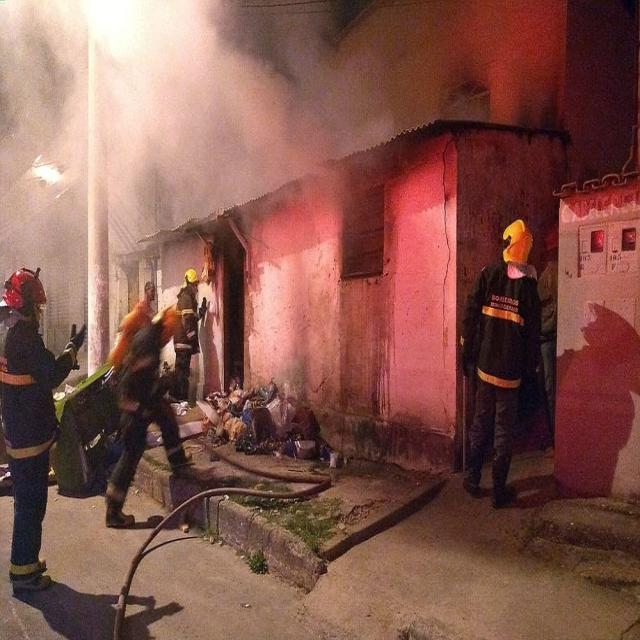Smoke: (0, 0, 394, 231)
